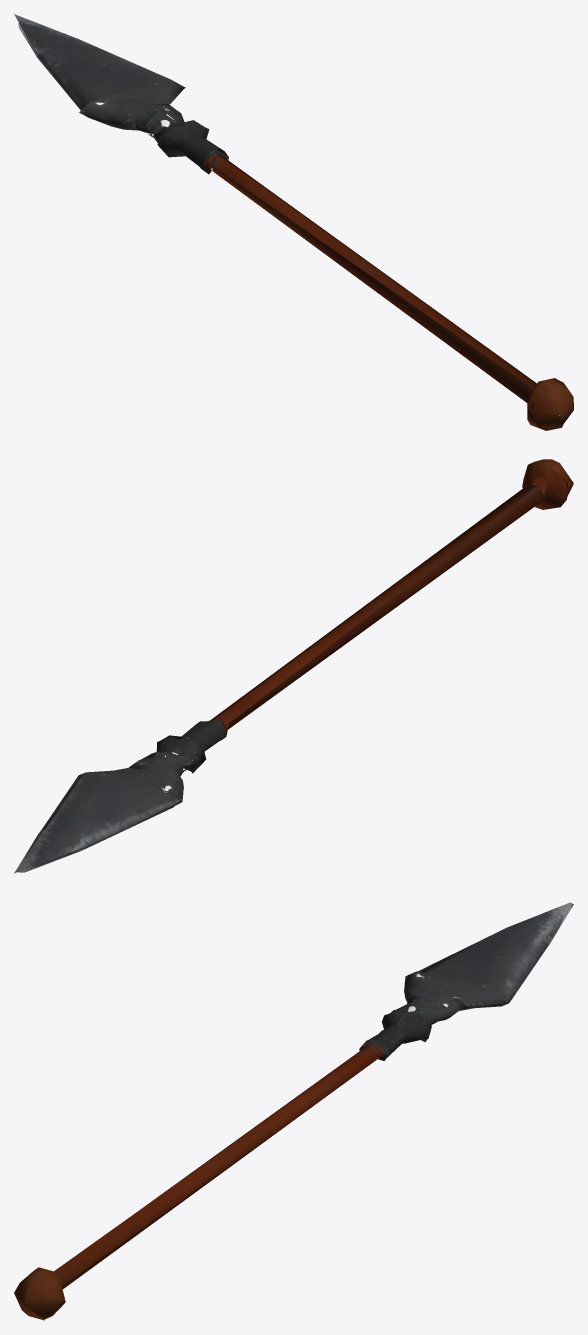
The model's file is g_javelin_lod1.fbx.
3 renders of one model, top to bottom at view 1: azimuth 30°, elevation 25°; view 2: azimuth 150°, elevation 25°; view 3: azimuth 330°, elevation 25°, orthographic.
Parts seen in each view (by area): view 1: tripo_node_9148a5af-83a0-446b-a80d-7d18c22ec979; view 2: tripo_node_9148a5af-83a0-446b-a80d-7d18c22ec979; view 3: tripo_node_9148a5af-83a0-446b-a80d-7d18c22ec979.
Part boxes in pixels (box(x1,y1,x2,y2)): tripo_node_9148a5af-83a0-446b-a80d-7d18c22ec979: box(14, 14, 573, 430); tripo_node_9148a5af-83a0-446b-a80d-7d18c22ec979: box(14, 459, 573, 873); tripo_node_9148a5af-83a0-446b-a80d-7d18c22ec979: box(14, 902, 573, 1320).
Bounding box in the file's own units: 0.1831 × 0.0776 × 1.64.
